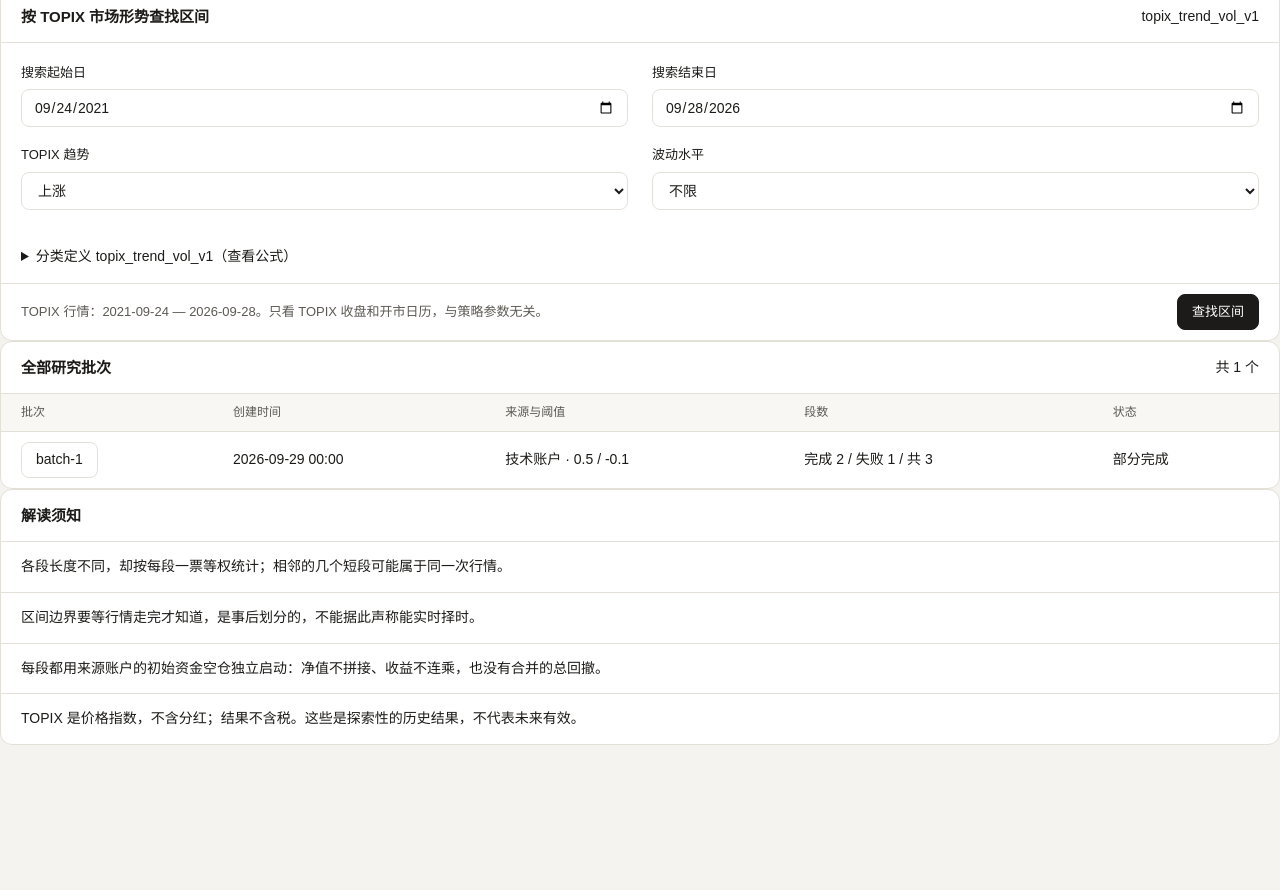
Test: 查找区间后列出全部候选及标注，勾选两段提交时带上发现编号和区间编号
Check: the date field labelled "搜索结束日" holds "2026-09-28", box [652,89,1259,127]
Click the button "查找区间" at (1218, 312), box [1177,294,1259,330]
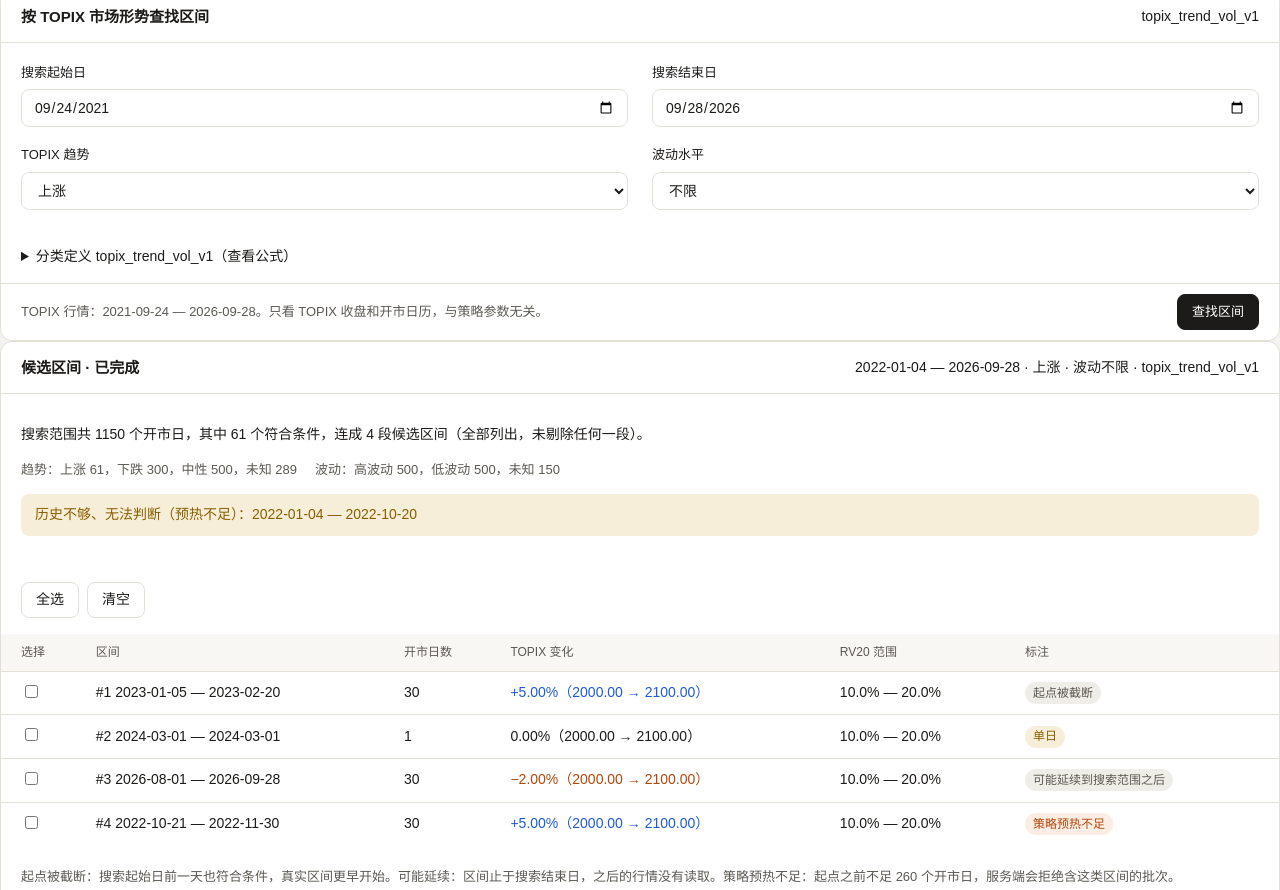
Check: the number of checkboxes is 4
Check: the text "单日" is shown, box [1025,726,1065,748]
Check: the text "起点被截断" is shown, box [1025,682,1101,704]
Click the checkbox named "#3 " at (32, 778), box [25,772,38,785]
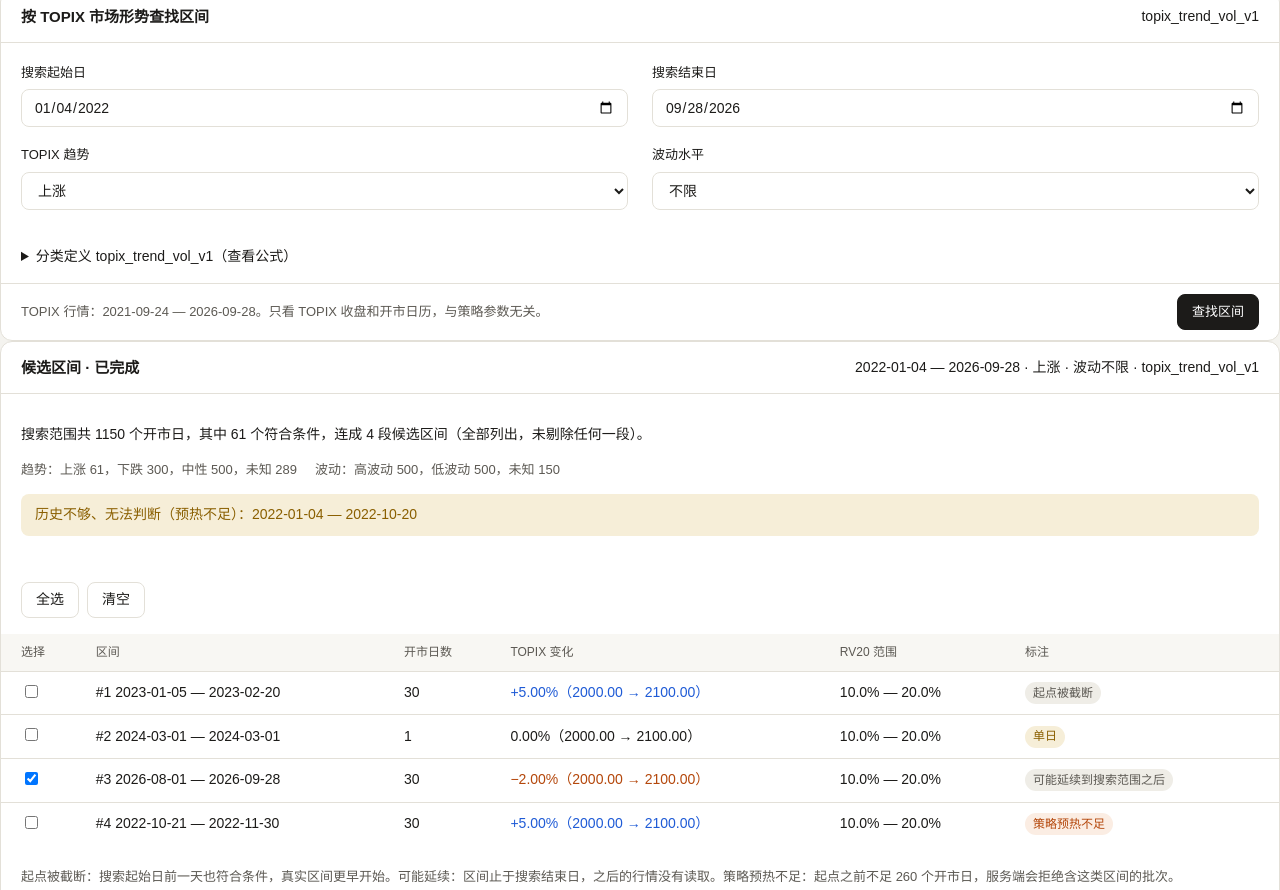
Click the checkbox named "#1 " at (32, 691), box [25,685,38,698]
(page scrolled)
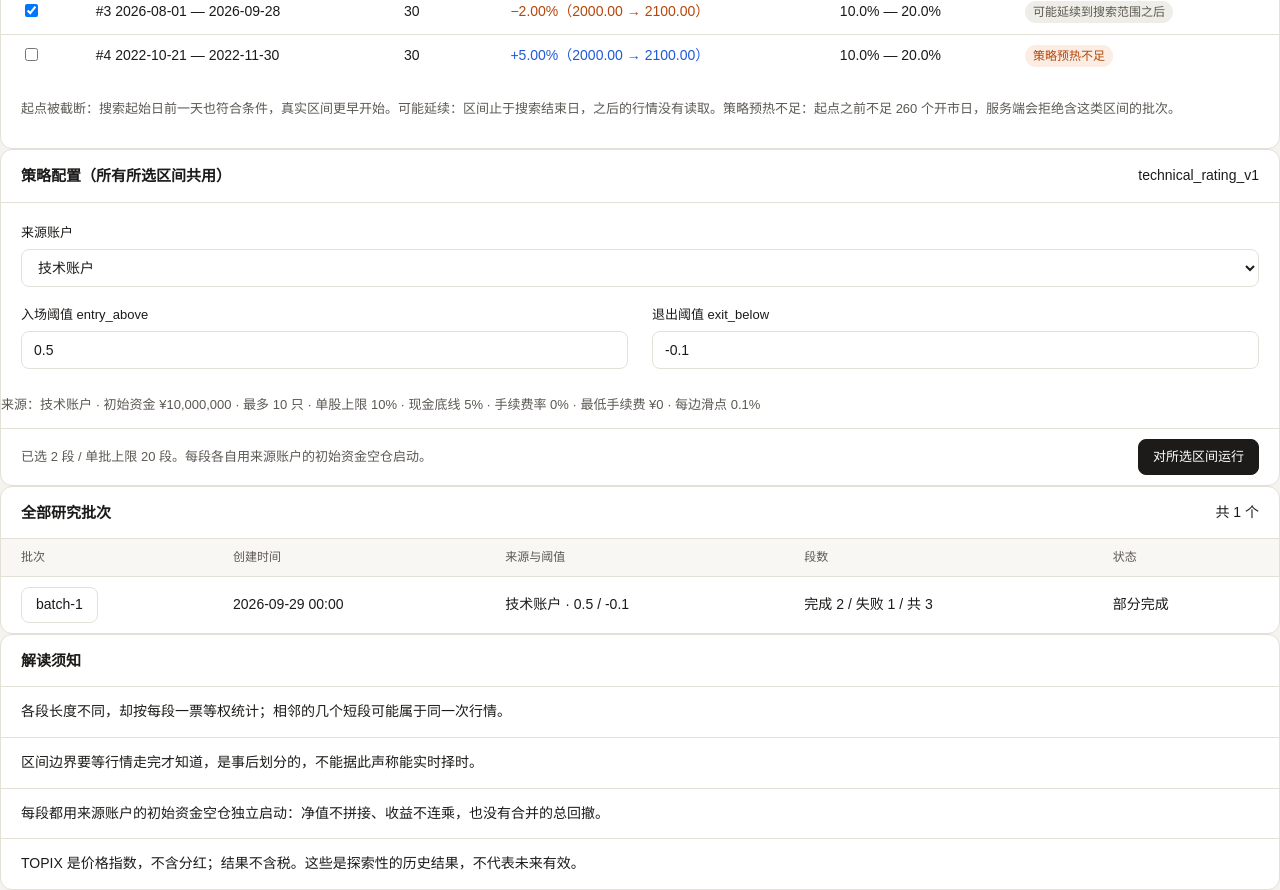
Check: the text "已选 2 段 / 单批上限 20 段。每段各自用来源账户的初始资金空仓启动。" is shown, box [21,447,432,467]
Click the button "对所选区间运行" at (1198, 457), box [1138,439,1259,475]
(page scrolled)
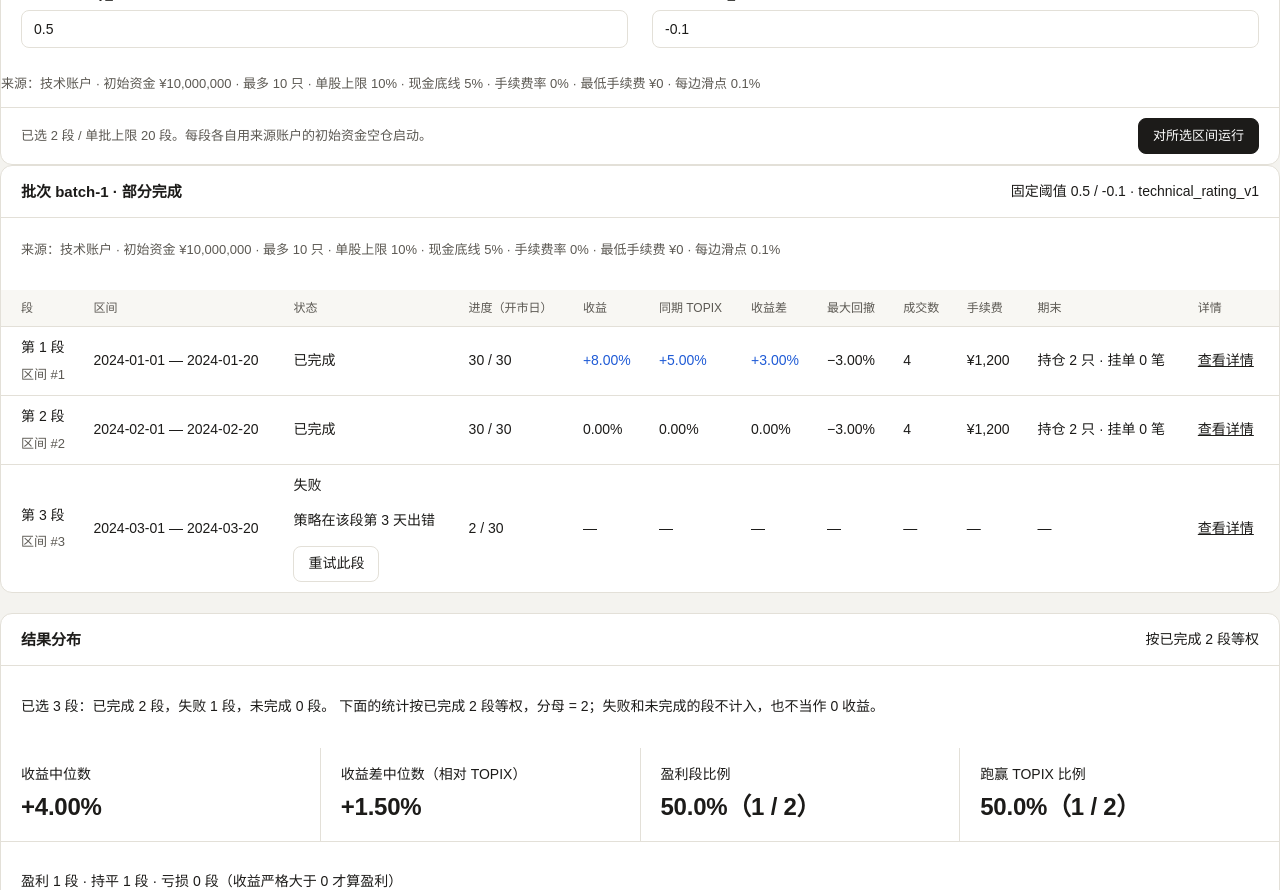
Check: the table named "逐段结果" is shown, box [1,290,1279,592]
